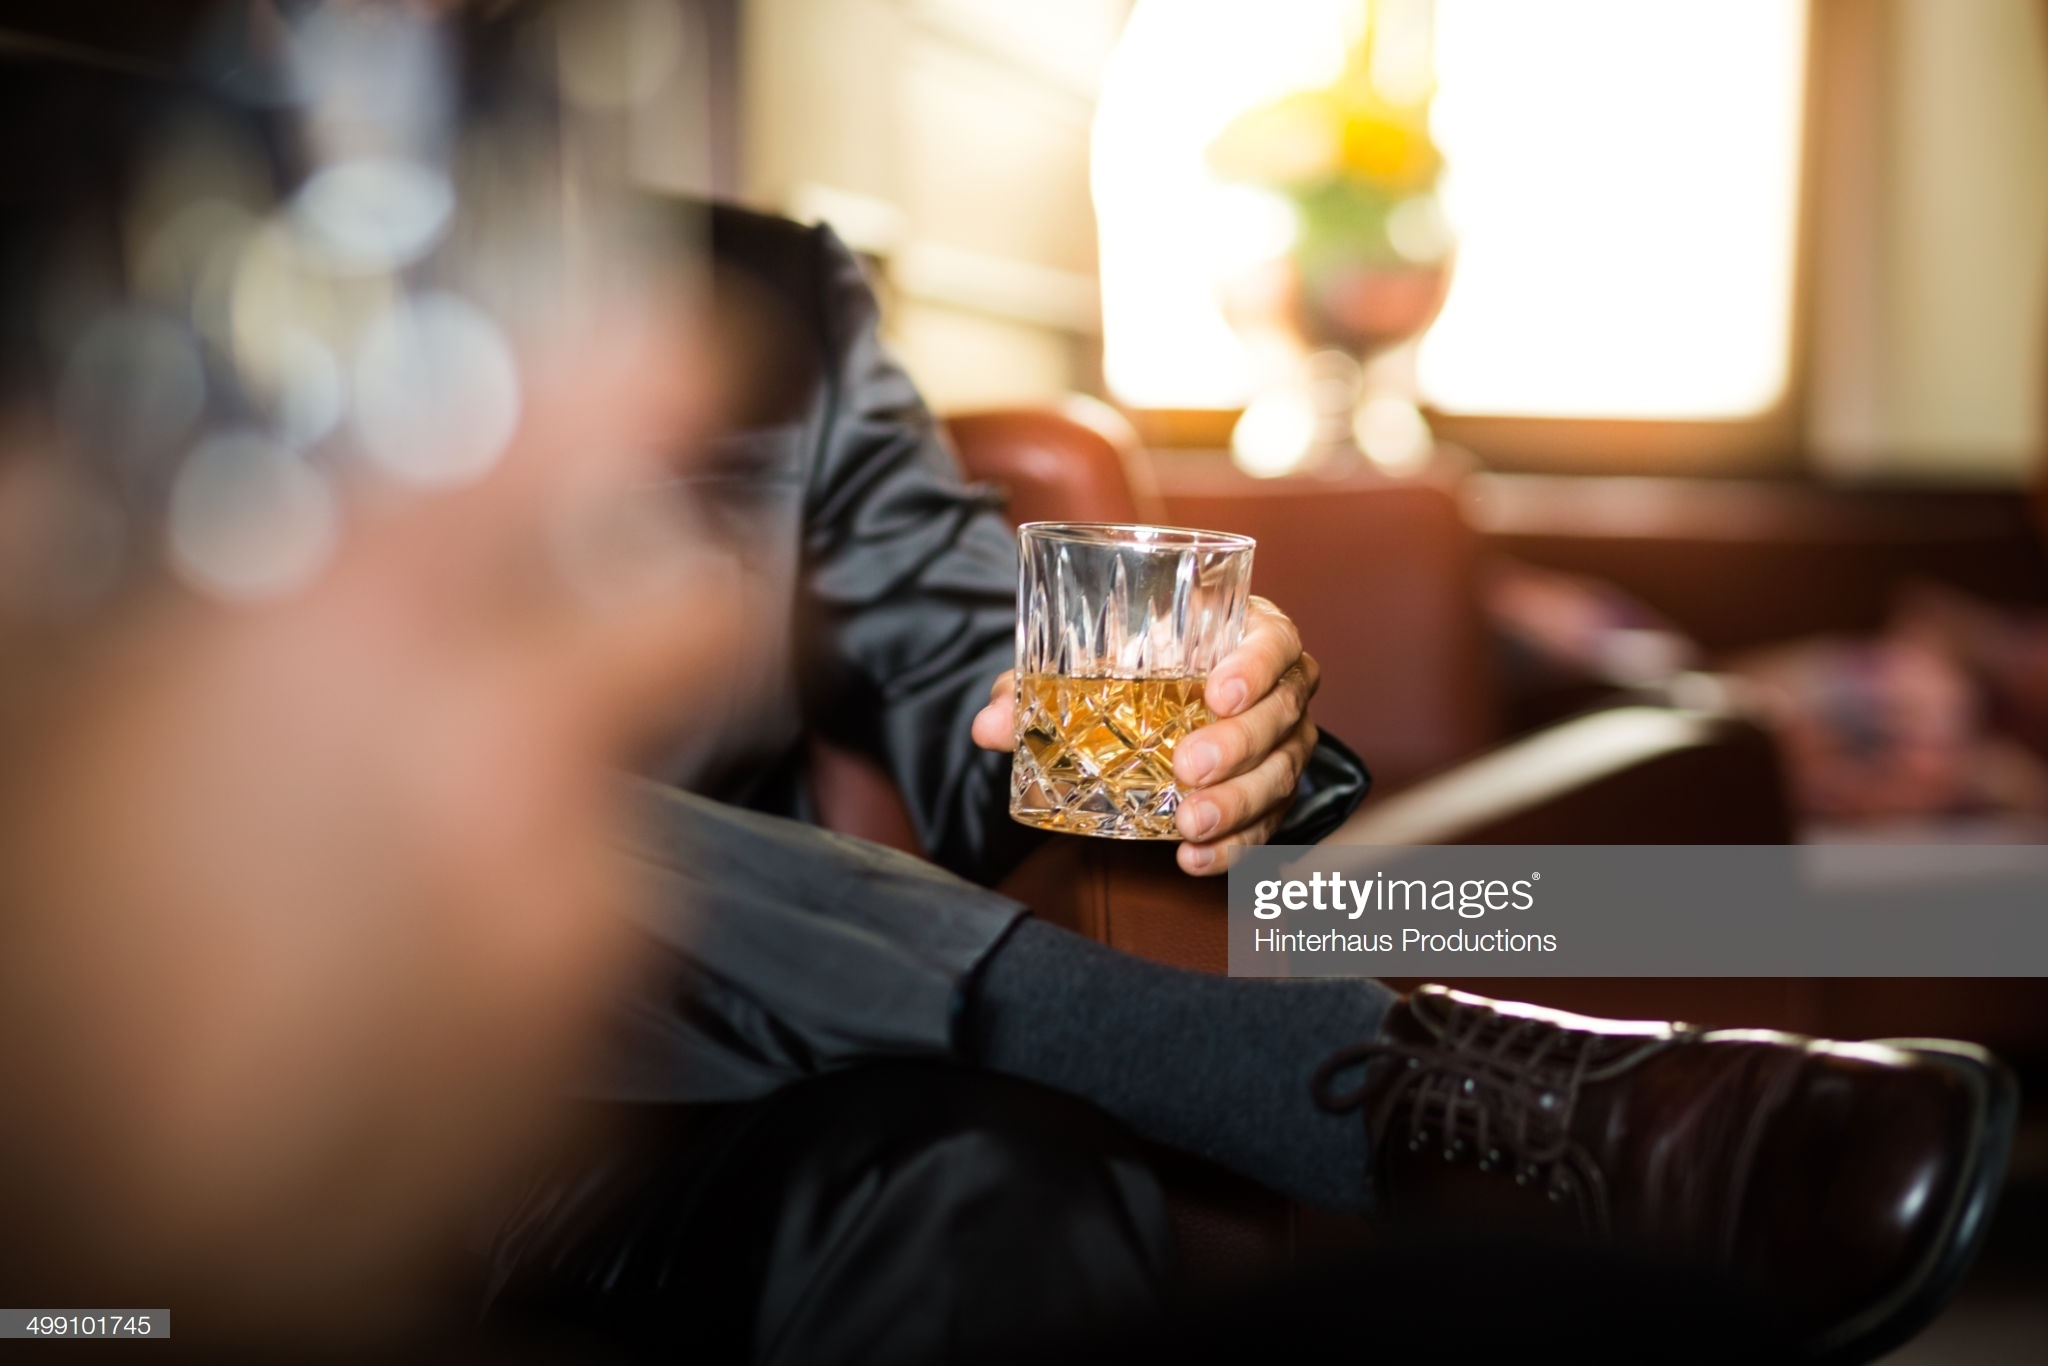whiskey: (1006, 508, 1294, 855)
